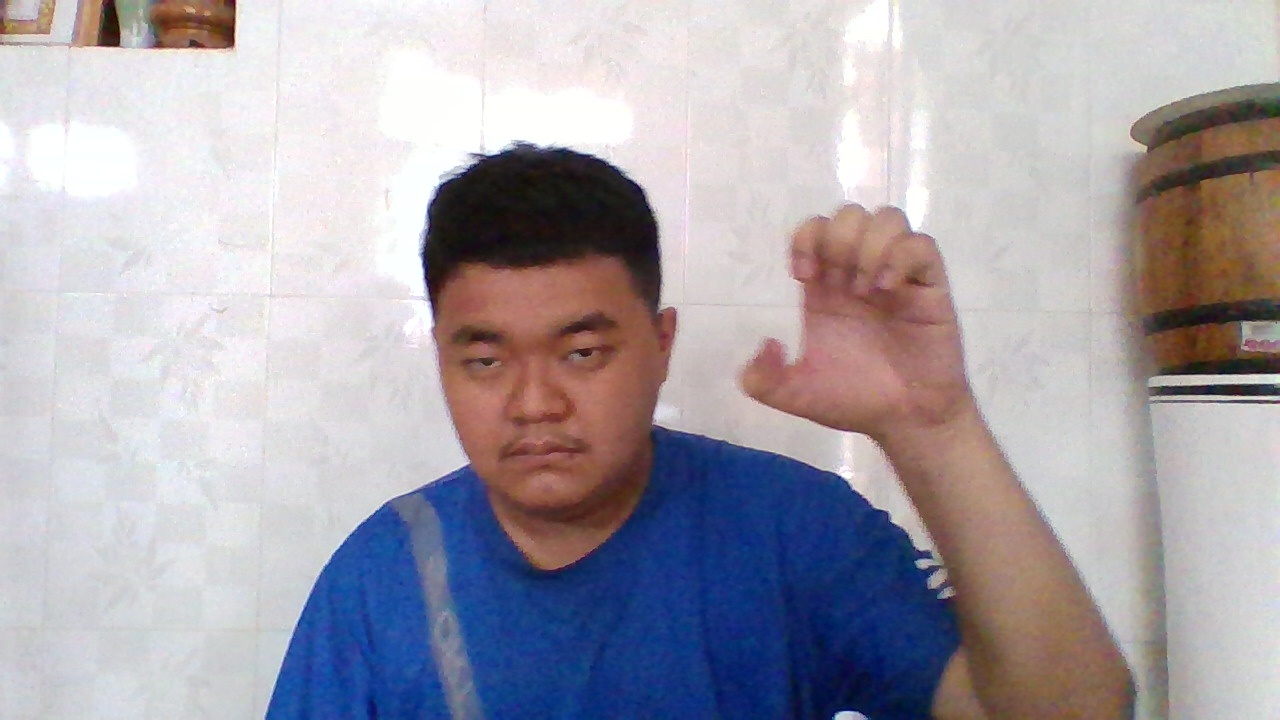E: (742, 196, 945, 431)
